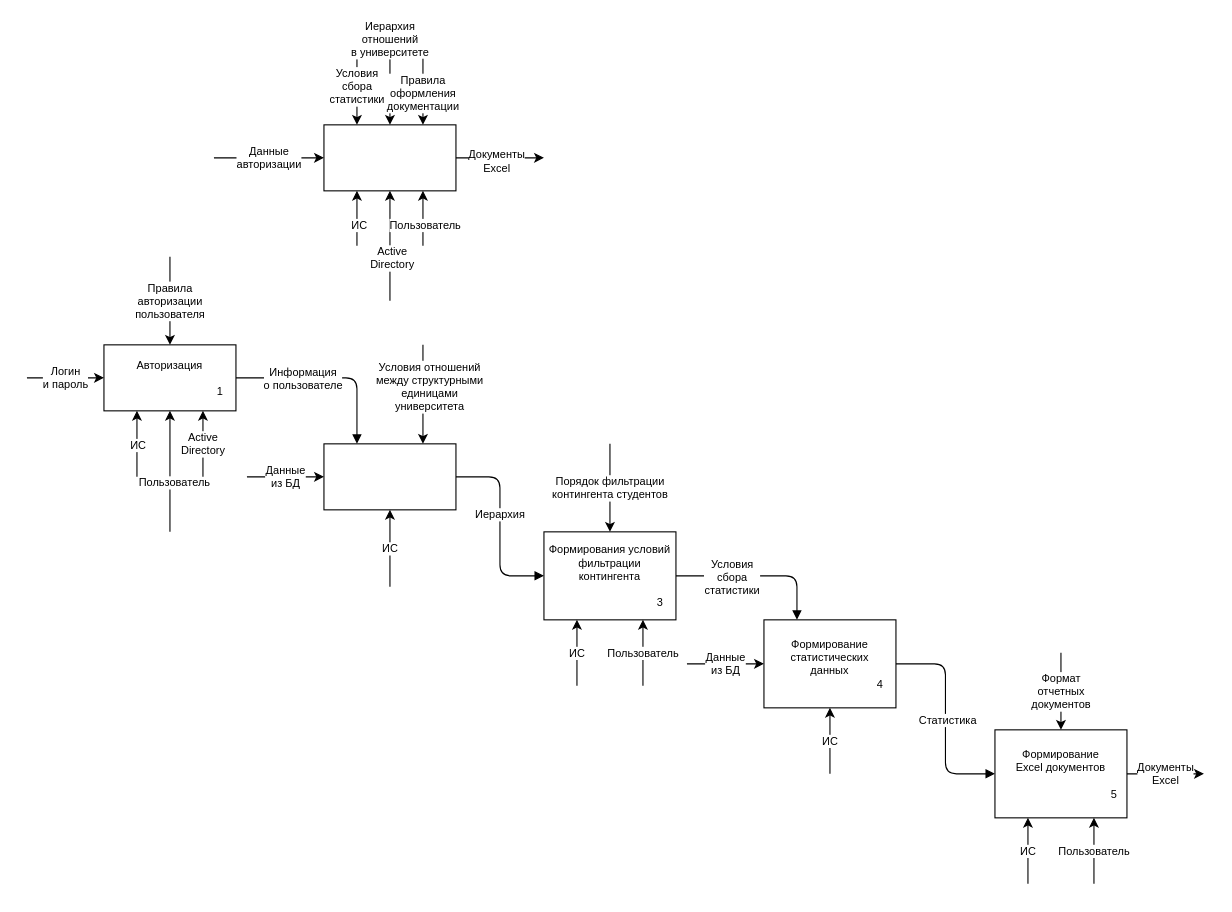
This 1232x912 diagram has some shape labels left out. Here are the shapes that lost their labels. From the top down, the centre of each, then its label:
At point (389, 157): "Мониторинг учебного процесса 0".
At point (389, 476): "Формирования иерархии университета 2".
